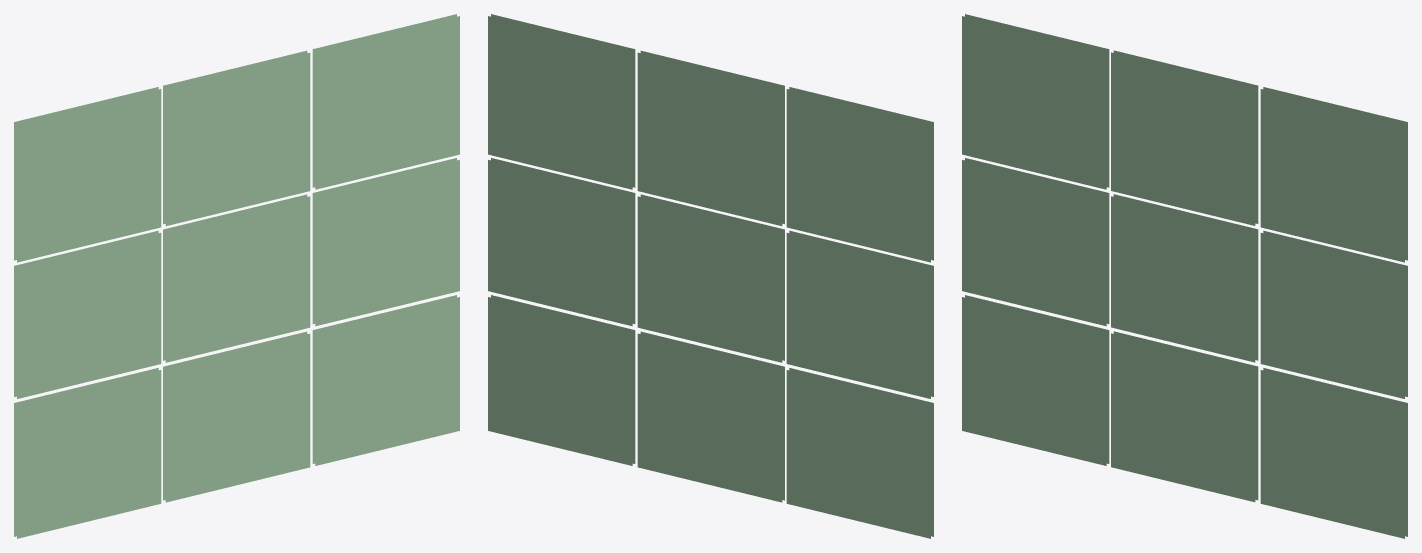
Rendered from SM_BackDoor_A_Glass.fbx.
3 views of the same model, side by side, from view 1: azimuth 30°, elevation 25°; view 2: azimuth 150°, elevation 25°; view 3: azimuth 330°, elevation 25° (orthographic).
Parts seen in each view (by area): view 1: SM_BackDoor_A_Glass; view 2: SM_BackDoor_A_Glass; view 3: SM_BackDoor_A_Glass.
Part boxes in pixels (<box>): SM_BackDoor_A_Glass: <box>14,14,459,538</box>; SM_BackDoor_A_Glass: <box>488,14,933,538</box>; SM_BackDoor_A_Glass: <box>962,14,1407,538</box>.
Size of the model in its own units: 92.67 by 1 by 82.91.
